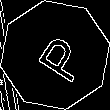P_NW: (24, 26, 86, 84)
